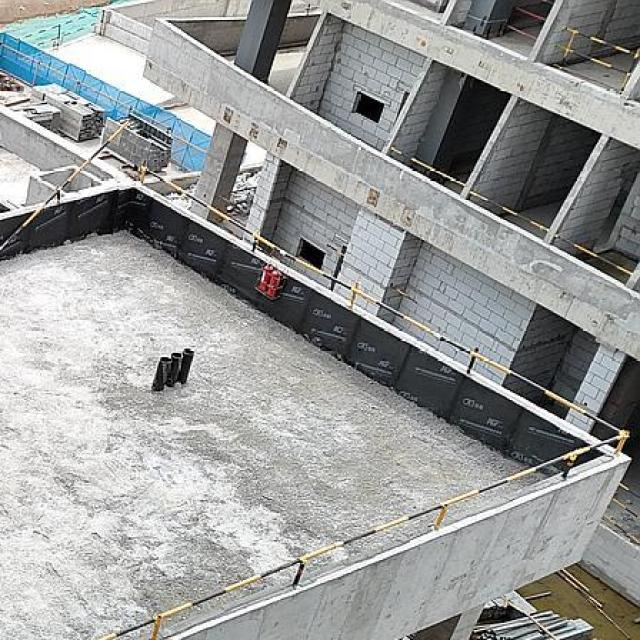edge_guardrail: (90, 160, 629, 640), (0, 117, 131, 252), (0, 43, 170, 134), (557, 26, 640, 95), (468, 189, 549, 234), (553, 233, 633, 276), (389, 146, 466, 188), (20, 10, 97, 47), (601, 482, 640, 544), (504, 0, 554, 43)
